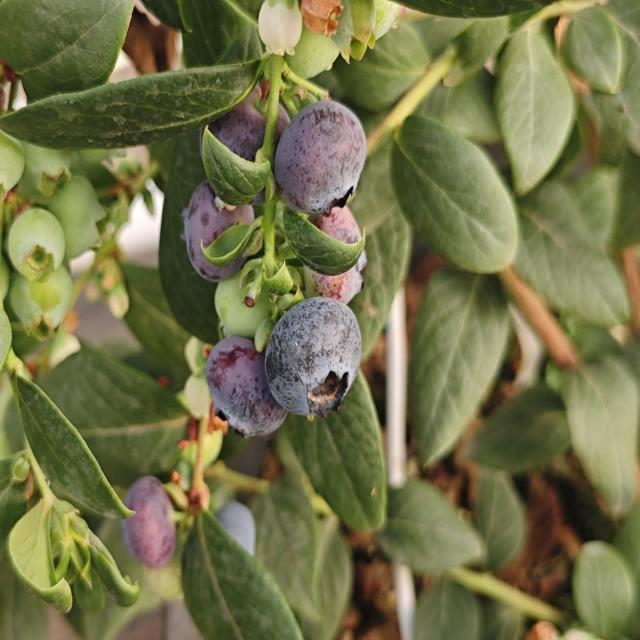ripe: (262, 294, 364, 421), (272, 98, 368, 219), (203, 334, 288, 441), (192, 85, 286, 178), (180, 178, 257, 285), (200, 492, 259, 590)
